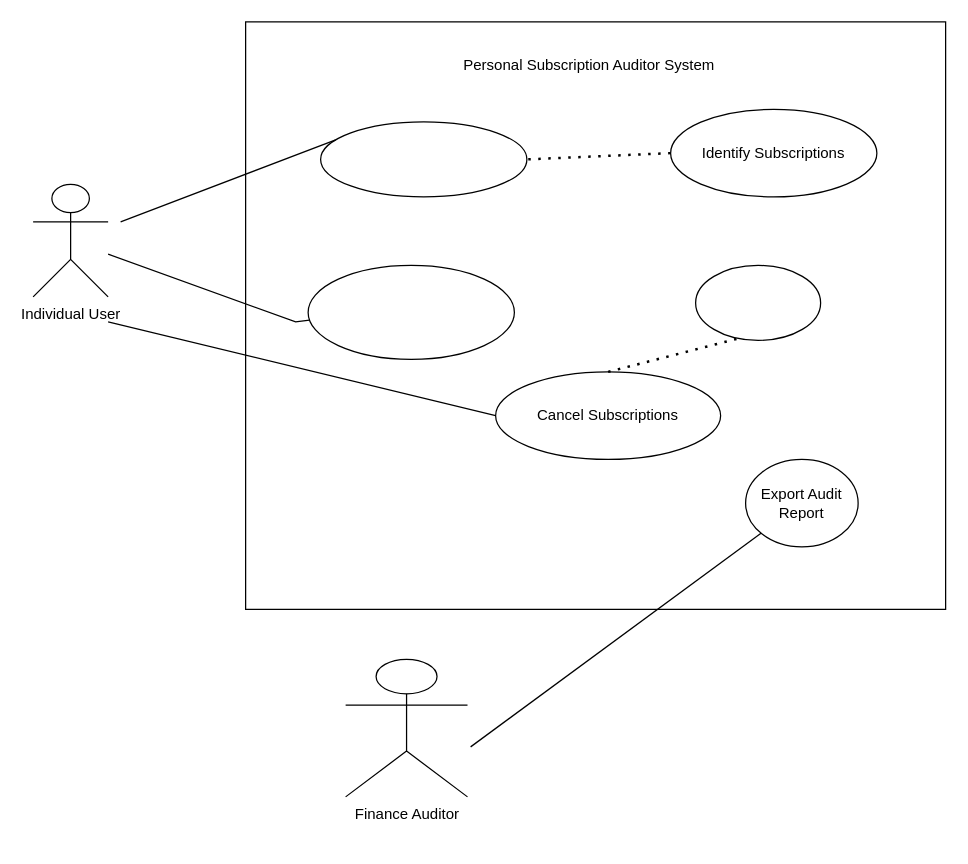
The diagram is 968 pixels wide and 864 high, and some of its shapes have lost their labels. The shapes that lost their labels are listed below. From the top down, each one's centre as x and y in pixels, then its label:
At point (423, 159): "Import Bank Transactions".
At point (410, 311): "View Monthly Burn Rate".
At point (757, 302): "View cancellation guide".
